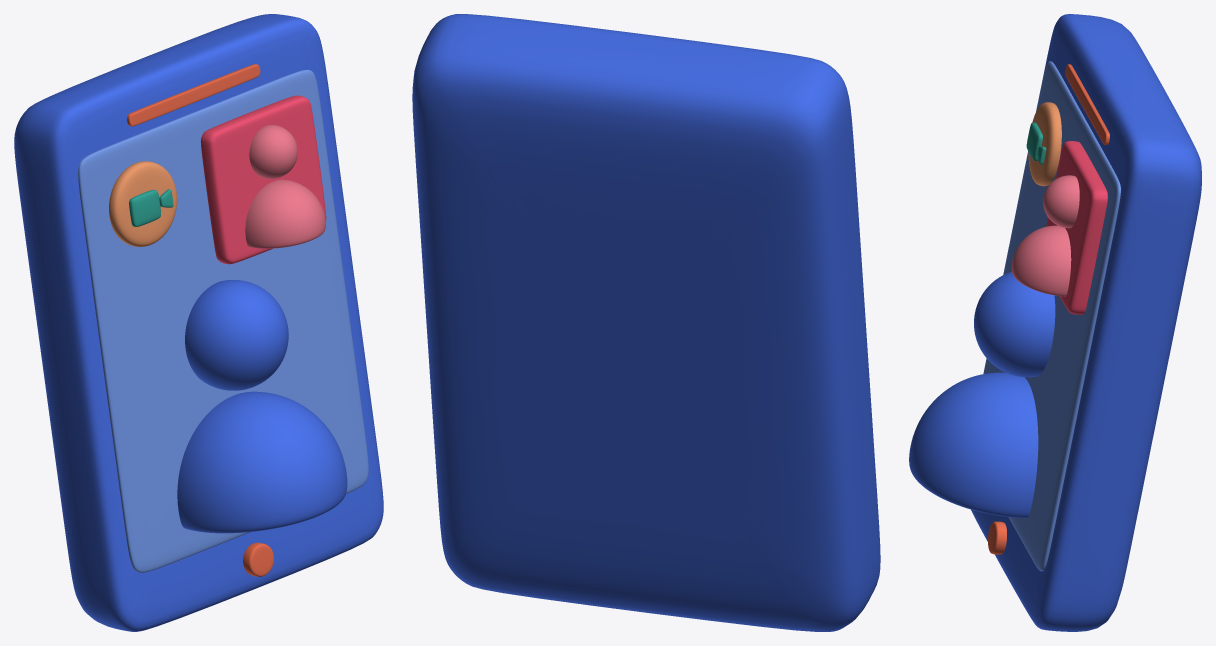
The model's file is video-call-3d-animated-icon-1514819476397.glb.
3 renders of one model, left to right at view 1: azimuth 30°, elevation 25°; view 2: azimuth 150°, elevation 25°; view 3: azimuth 270°, elevation 25°, orthographic. The views are drawn at different scales.
Visible parts, largest first — view 1: case, screen, male.001, screen 2, male, female.001, cylinder, female, speaker, camera, button; view 2: case; view 3: case, screen, male.001, male, screen 2, female.001, cylinder, female, speaker, camera, button.
Boxes of the visible parts, x1,y1,x2,y2 form: case: (14, 14, 383, 631); screen: (78, 69, 368, 572); male.001: (177, 391, 347, 533); screen 2: (200, 95, 326, 264); male: (185, 280, 288, 390); female.001: (245, 179, 325, 248); cylinder: (109, 161, 177, 246); female: (249, 125, 297, 178); speaker: (127, 64, 260, 126); camera: (129, 189, 173, 226); button: (243, 542, 273, 576); case: (412, 14, 880, 631); case: (971, 14, 1201, 631); screen: (983, 61, 1120, 571); male.001: (909, 372, 1038, 518); male: (974, 271, 1055, 377); screen 2: (1046, 141, 1107, 314); female.001: (1011, 225, 1071, 296); cylinder: (1028, 102, 1061, 186); female: (1043, 175, 1079, 228); speaker: (1065, 64, 1109, 145); camera: (1026, 122, 1046, 164); button: (988, 521, 1006, 554).
Size of the model in its own units: 2.01 by 2.87 by 1.56.
